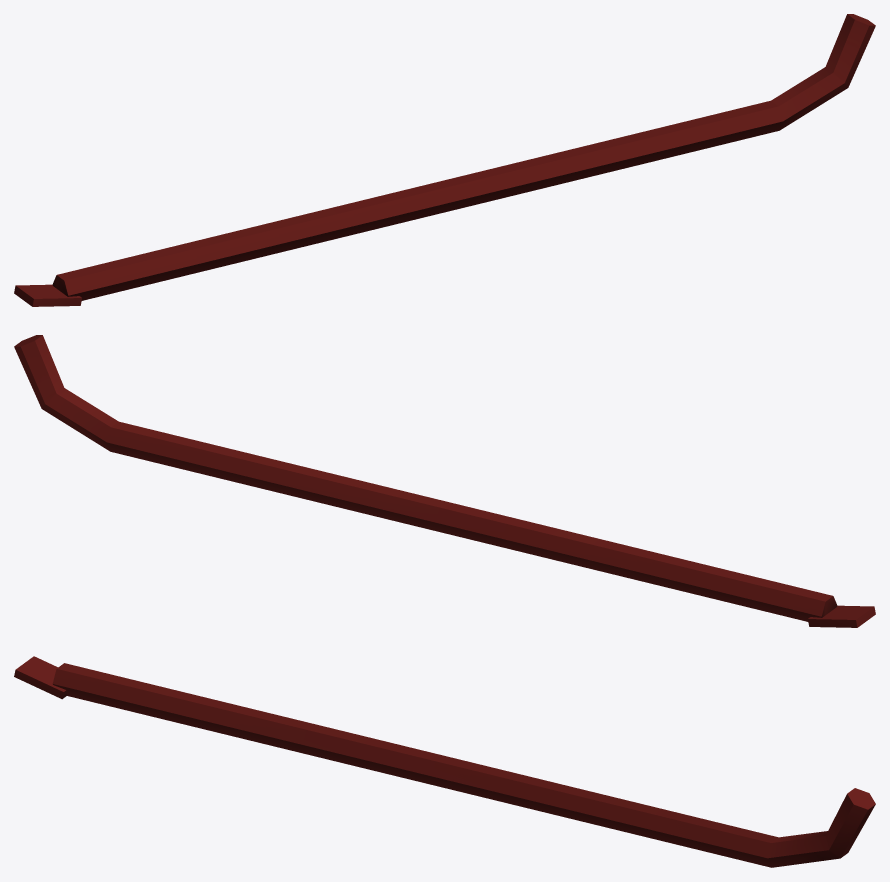
File: palanca.glb
3 renders of one model, top to bottom at view 1: azimuth 30°, elevation 25°; view 2: azimuth 150°, elevation 25°; view 3: azimuth 330°, elevation 25°, orthographic.
Parts seen in each view (by area): view 1: palanca; view 2: palanca; view 3: palanca.
Boxes of the visible parts, left/top/right/bottom form: palanca: left=14, top=14, right=875, bottom=306; palanca: left=14, top=335, right=875, bottom=627; palanca: left=14, top=656, right=875, bottom=867.
Bounding box in the file's own units: 0.6887 × 0.0718 × 0.026.
